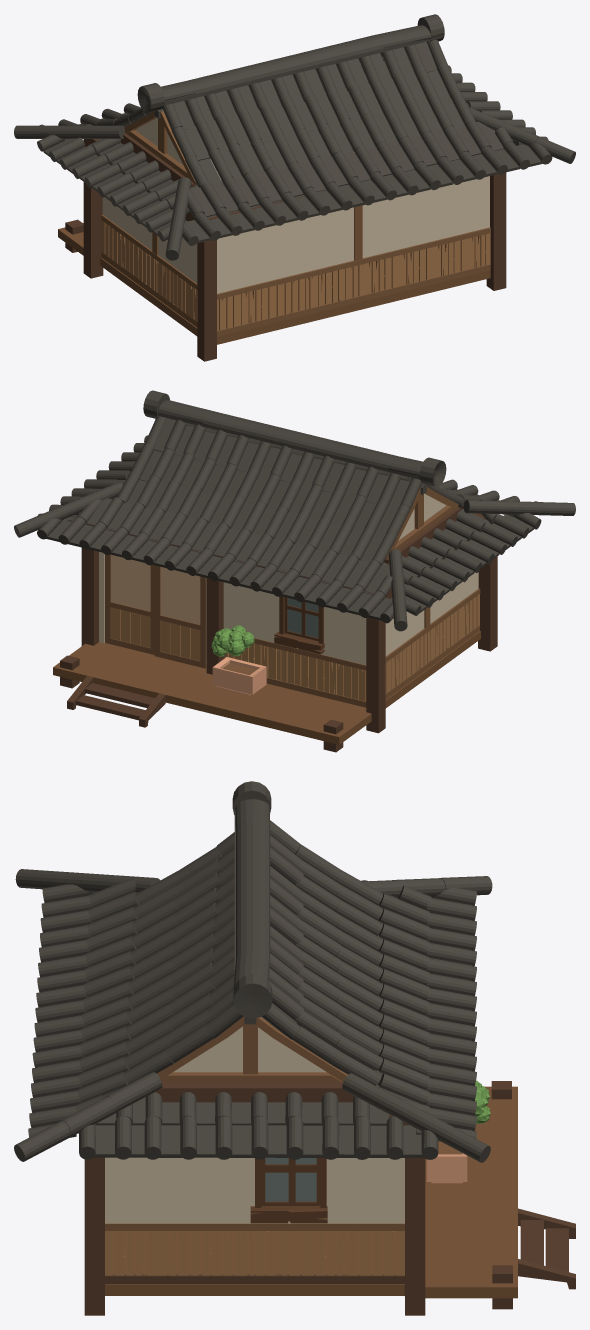
Rendered from House.glb.
3 renders of one model, top to bottom at view 1: azimuth 30°, elevation 25°; view 2: azimuth 150°, elevation 25°; view 3: azimuth 270°, elevation 25°, orthographic. The views are drawn at different scales.
Parts seen in each view (by area): view 1: Cube.065, Cube.062, Cylinder.198, Floor, Cube.055, Cube.044, Cube.042, Cube.058, Cube.060, Cube.061, Cube.004, Cube.256 (+19 smaller); view 2: Floor, Cube.030, Cylinder.198, Cube.029, Cube.055, Cube.004, Cube.024, Cube.017, Cube.058, Cube.007, Cube.044, Cube.257 (+28 smaller); view 3: Floor, Cube.043, Cube.040, Cylinder.198, Cube.007, Cube.042, Cube.078, Cube.227, Cube.039, Cube.038, Cube.041, Cube.246 (+106 smaller).
Part boxes in pixels (box(x1,y1,x2,y2)): Cube.065: box(217, 176, 489, 293); Cube.062: box(217, 263, 365, 331); Cylinder.198: box(161, 25, 431, 100); Floor: box(58, 223, 490, 344); Cube.055: box(101, 220, 188, 315); Cube.044: box(197, 216, 216, 361); Cube.042: box(486, 172, 506, 290); Cube.058: box(102, 197, 197, 283); Cube.060: box(217, 227, 490, 299); Cube.061: box(217, 264, 490, 336); Cube.004: box(83, 139, 103, 278); Cube.256: box(164, 36, 442, 105); Floor: box(53, 631, 480, 744); Cube.030: box(223, 582, 366, 665); Cylinder.198: box(158, 400, 422, 475); Cube.029: box(223, 643, 366, 701); Cube.055: box(385, 607, 461, 693); Cube.004: box(366, 591, 385, 733); Cube.024: box(160, 567, 200, 624); Cube.017: box(111, 554, 150, 611); Cube.058: box(385, 572, 478, 656); Cube.007: box(81, 523, 98, 645); Cube.044: box(478, 514, 497, 651); Cube.257: box(212, 657, 266, 695); Floor: box(105, 1086, 517, 1298); Cube.043: box(105, 1157, 404, 1223); Cube.040: box(157, 1231, 404, 1275); Cylinder.198: box(233, 799, 270, 993); Cube.007: box(405, 1123, 425, 1315); Cube.042: box(84, 1157, 104, 1315); Cube.078: box(173, 1017, 326, 1072); Cube.227: box(155, 1082, 353, 1102); Cube.039: box(105, 1274, 404, 1284); Cube.038: box(105, 1223, 404, 1230); Cube.041: box(105, 1231, 157, 1275); Cube.246: box(160, 1072, 342, 1082).
Bounding box in the file's own units: 9.84 × 5.3 × 8.27.
